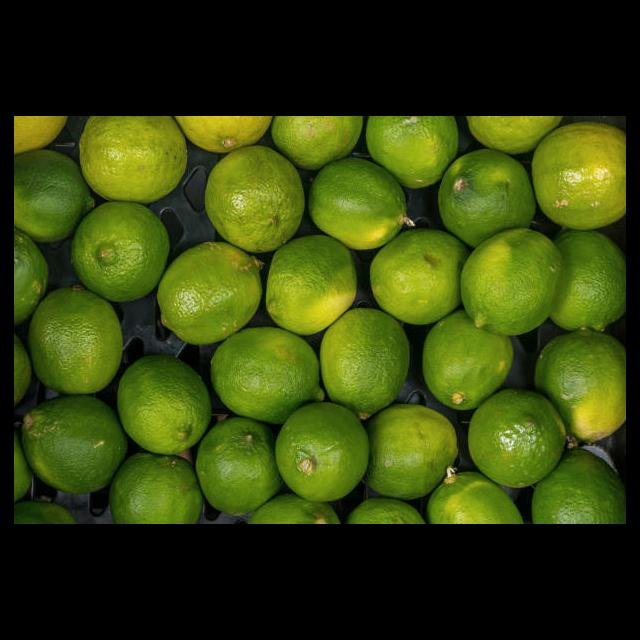lime: (156, 243, 264, 347), (528, 122, 626, 231), (26, 288, 123, 396), (320, 309, 412, 418), (74, 201, 169, 303)
